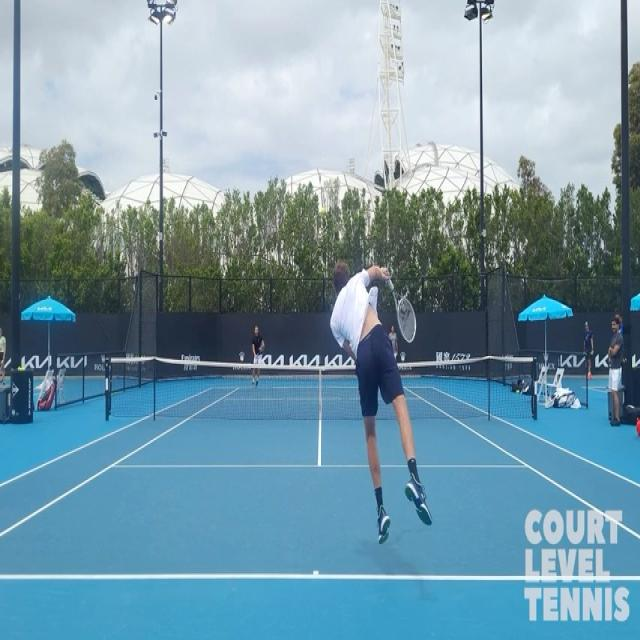serve_followthrough: (326, 252, 442, 547)
